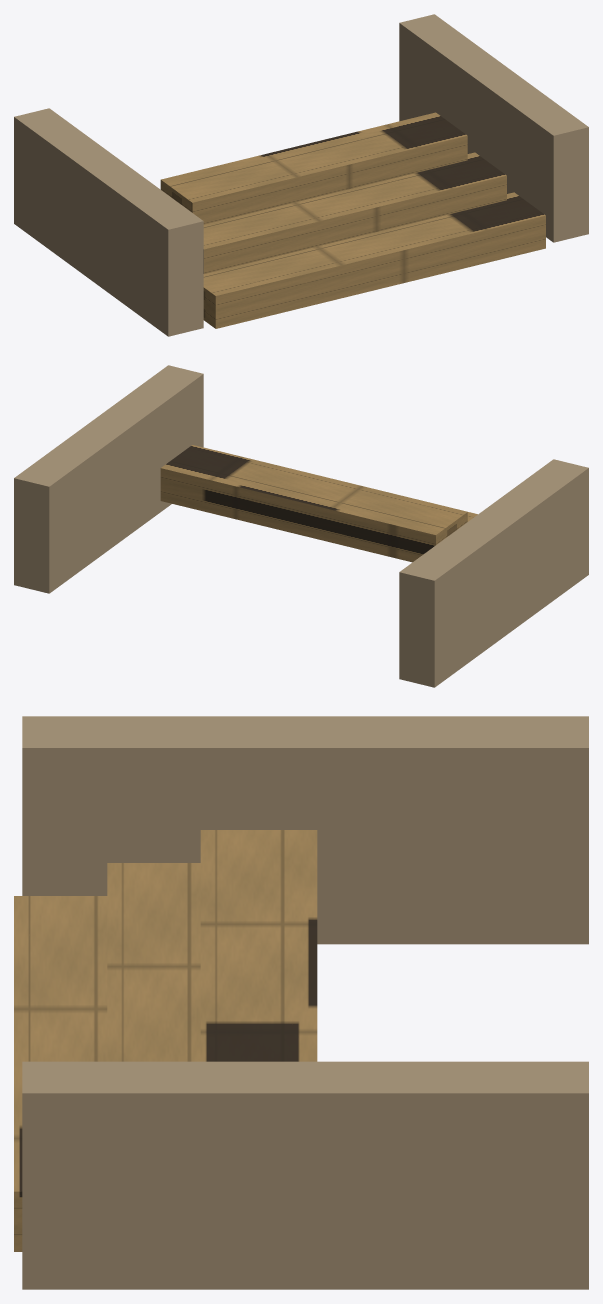
The model's file is city-module-stairs-lod1.glb.
3 renders of one model, top to bottom at view 1: azimuth 30°, elevation 25°; view 2: azimuth 150°, elevation 25°; view 3: azimuth 270°, elevation 25°, orthographic. The views are drawn at different scales.
Visible parts, largest first — view 1: module_stairs_left_cheek, module_stairs_right_cheek, module_stairs_step_1, module_stairs_step_3, module_stairs_step_2; view 2: module_stairs_left_cheek, module_stairs_right_cheek, module_stairs_step_3; view 3: module_stairs_right_cheek, module_stairs_left_cheek, module_stairs_step_3, module_stairs_step_2, module_stairs_step_1.
Part boxes in pixels (<box>): module_stairs_left_cheek: <box>14,108,203,336</box>; module_stairs_right_cheek: <box>399,14,588,242</box>; module_stairs_step_1: <box>203,192,545,328</box>; module_stairs_step_3: <box>160,112,467,224</box>; module_stairs_step_2: <box>203,152,506,273</box>; module_stairs_left_cheek: <box>399,459,588,687</box>; module_stairs_right_cheek: <box>14,365,203,593</box>; module_stairs_step_3: <box>160,445,467,562</box>; module_stairs_right_cheek: <box>22,1061,588,1289</box>; module_stairs_left_cheek: <box>22,716,588,944</box>; module_stairs_step_3: <box>200,830,317,1061</box>; module_stairs_step_2: <box>107,863,200,1061</box>; module_stairs_step_1: <box>14,896,107,1251</box>.
Bounding box in the file's own units: 0.535 × 0.132 × 0.345.
2 materials, 1 textured.
